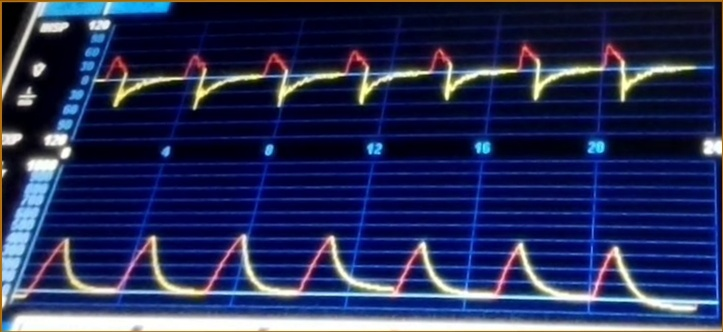Accumulation Flow: (108, 39, 688, 135)
Volume: (34, 231, 697, 313)
